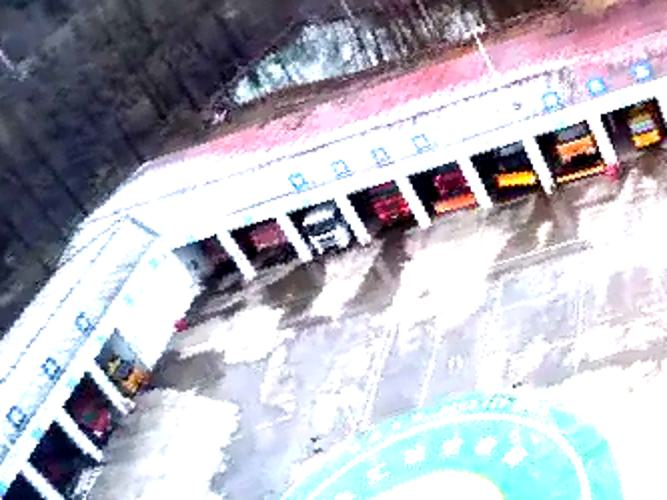Apron: (327, 459, 524, 500)
